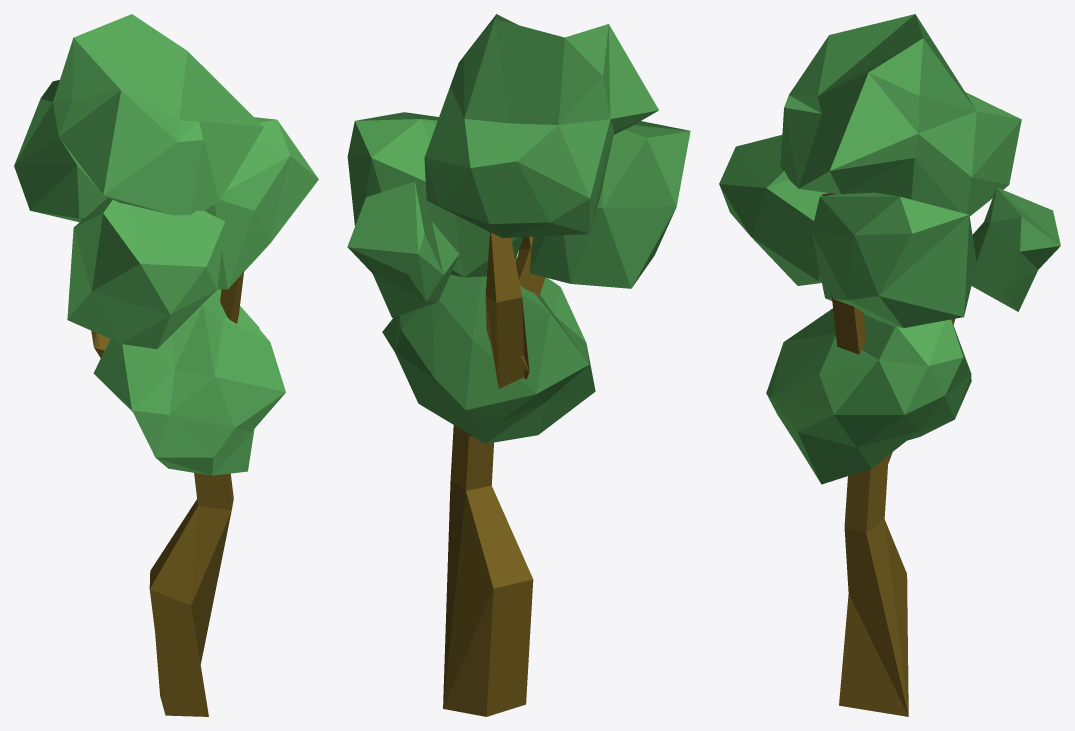
The model's file is shu2.FBX.
3 views of the same model, side by side, from view 1: azimuth 30°, elevation 25°; view 2: azimuth 150°, elevation 25°; view 3: azimuth 270°, elevation 25° (orthographic). The views are drawn at different scales.
Parts seen in each view (by area): view 1: Object255, Line002; view 2: Object255, Line002; view 3: Object255, Line002.
Boxes of the visible parts, left/top/right/bottom form: Object255: left=14, top=14, right=318, bottom=475; Line002: left=91, top=270, right=243, bottom=716; Object255: left=347, top=14, right=690, bottom=443; Line002: left=443, top=232, right=545, bottom=716; Object255: left=719, top=14, right=1060, bottom=484; Line002: left=822, top=193, right=955, bottom=716.
Bounding box in the file's own units: 1.74 × 4.16 × 1.98.
